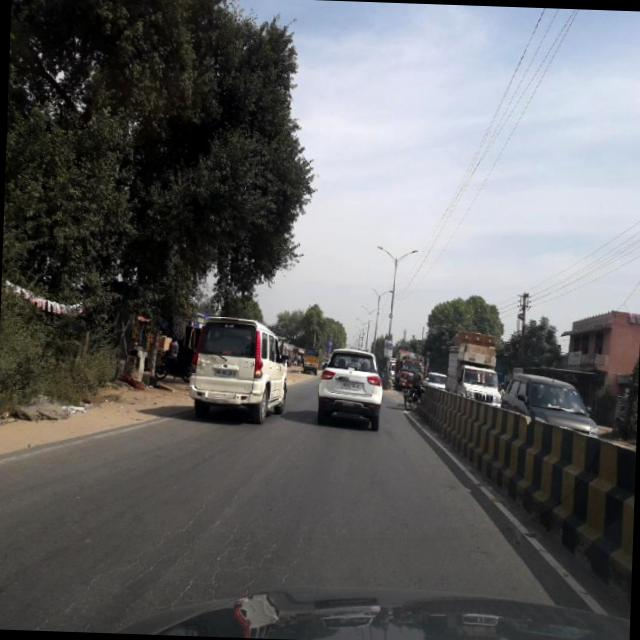crack: (54, 490, 297, 616)
